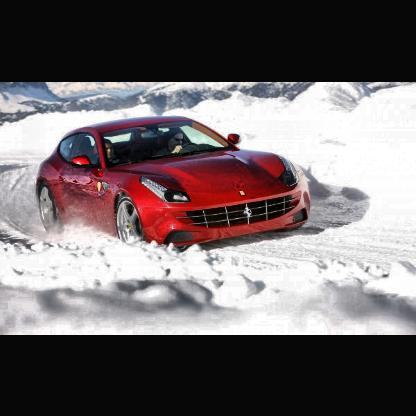Ferrari FF Coupe 2012: (37, 116, 312, 250)
